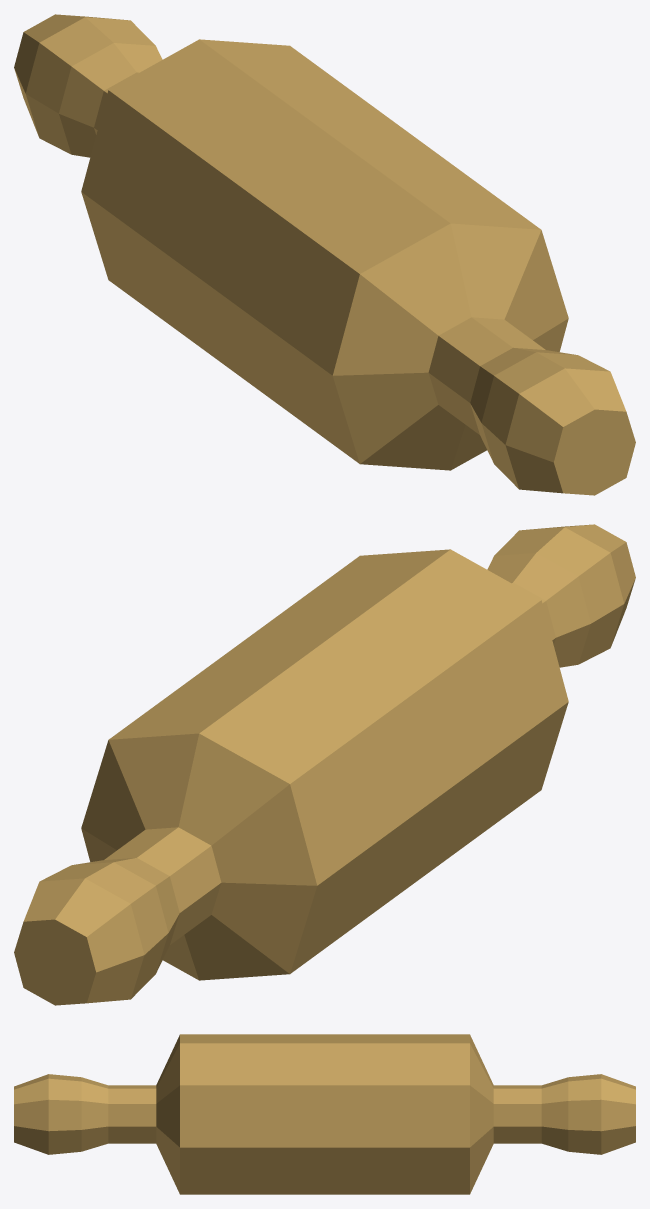
Rendered from roller.glb.
3 renders of one model, top to bottom at view 1: azimuth 30°, elevation 25°; view 2: azimuth 150°, elevation 25°; view 3: azimuth 270°, elevation 25°, orthographic. The views are drawn at different scales.
Parts seen in each view (by area): view 1: Cube; view 2: Cube; view 3: Cube.
Boxes of the visible parts, x1,y1,x2,y2 form: Cube: [14, 14, 635, 495]; Cube: [14, 524, 635, 1005]; Cube: [14, 1034, 635, 1194].
Bounding box in the file's own units: 2.6 × 2.6 × 10.3.
